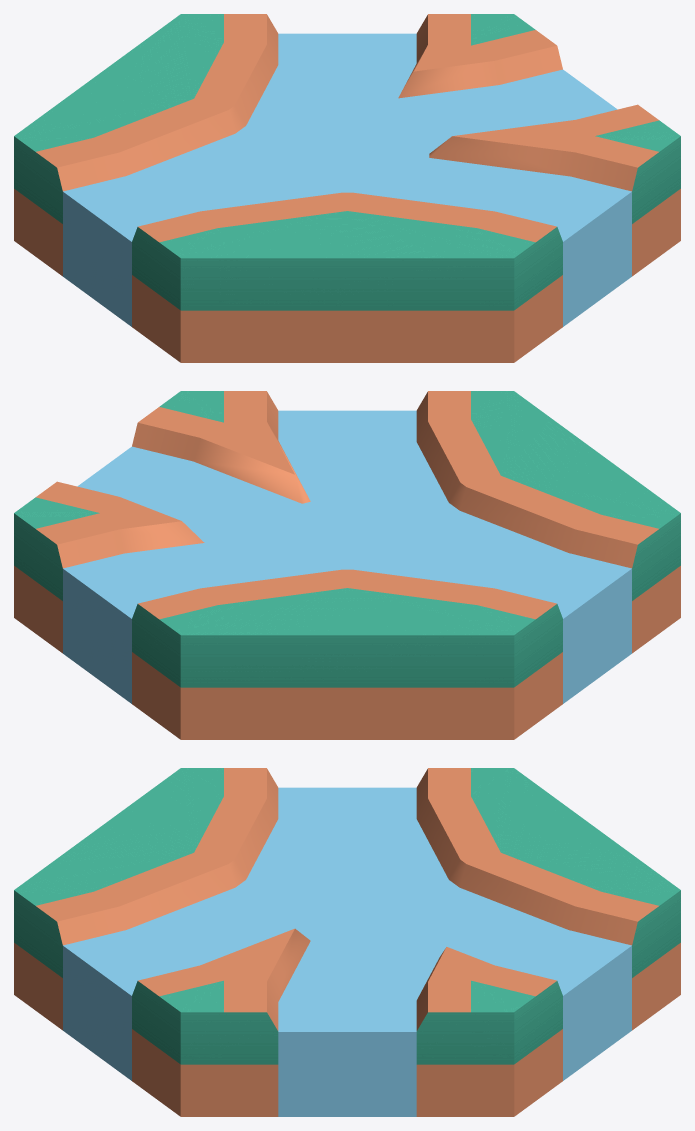
The model's file is river-intersectionD.glb.
3 renders of one model, top to bottom at view 1: azimuth 30°, elevation 25°; view 2: azimuth 150°, elevation 25°; view 3: azimuth 270°, elevation 25°, orthographic.
Visible parts, largest first — view 1: river-intersectionD; view 2: river-intersectionD; view 3: river-intersectionD.
Boxes of the visible parts, x1=… form: river-intersectionD: x1=14, y1=14, x2=680, y2=362; river-intersectionD: x1=14, y1=391, x2=680, y2=739; river-intersectionD: x1=14, y1=768, x2=680, y2=1116.
Size of the model in its own units: 10 by 2 by 11.55.
Materials: 1 (1 with a texture image).
